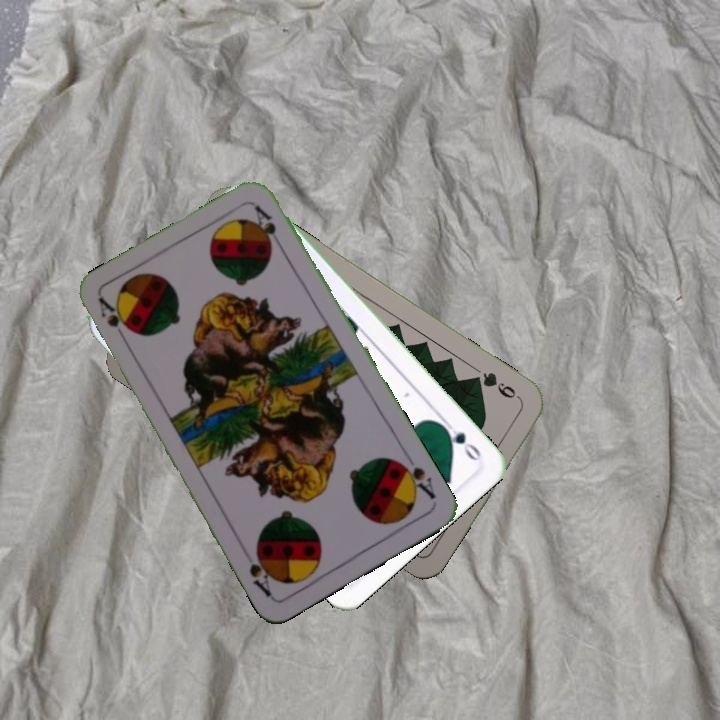G9: (467, 368, 524, 404)
GO: (436, 415, 484, 464)
SA: (393, 456, 439, 502), (95, 294, 131, 348)
